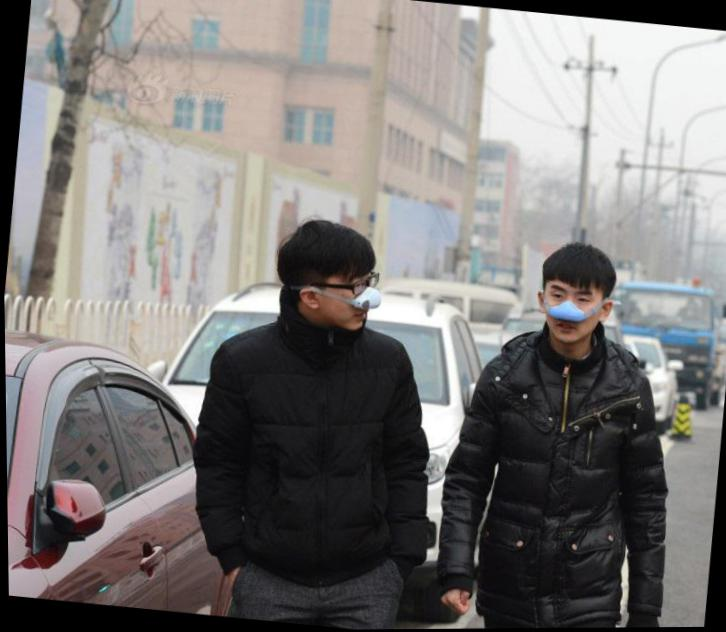WRONG: (308, 259, 386, 334), (539, 281, 604, 345)
